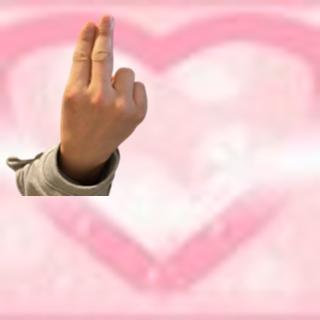DHAVE: (57, 11, 151, 171)
